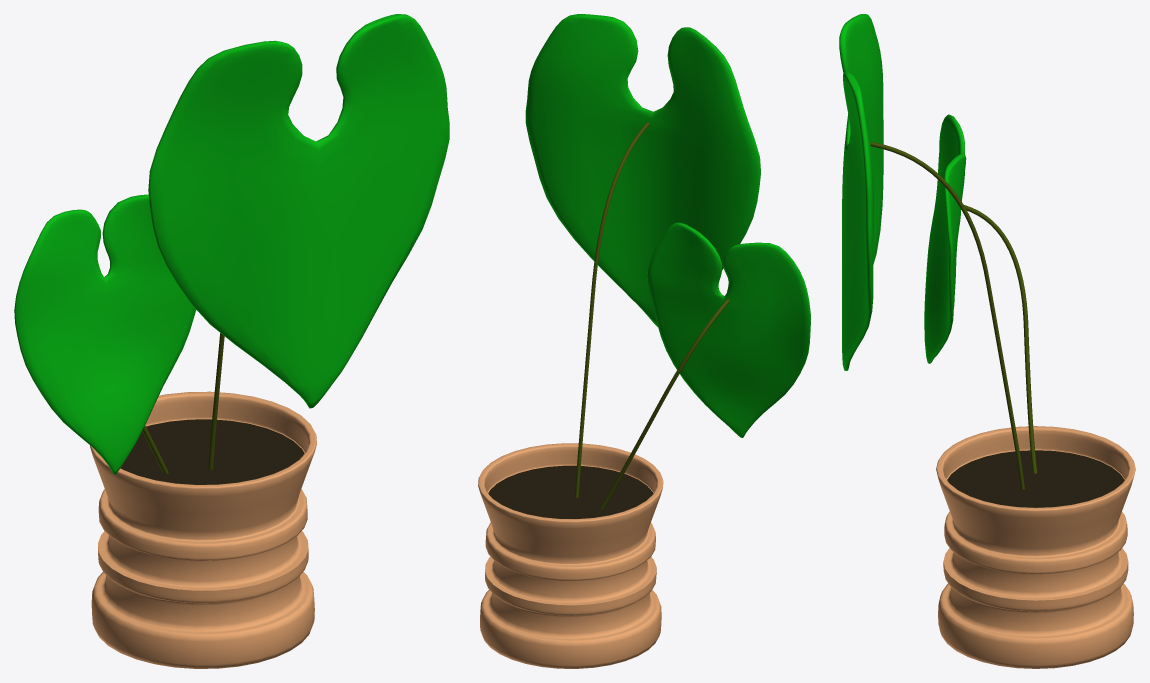
File: Anthurium Regale w_o texture.fbx
3 renders of one model, left to right at view 1: azimuth 30°, elevation 25°; view 2: azimuth 150°, elevation 25°; view 3: azimuth 270°, elevation 25°, orthographic. The views are drawn at different scales.
Visible parts, largest first — view 1: Plane, Circle, Plane.001, Circle.001, NurbsPath.001; view 2: Plane, Circle, Plane.001, Circle.001, NurbsPath.001; view 3: Circle, Plane, Circle.001, Plane.001, NurbsPath.001.
Part boxes in pixels (x1,y1,x2,y2): Plane: (148,14,449,408); Circle: (90,391,316,668); Plane.001: (14,194,195,474); Circle.001: (120,419,304,484); NurbsPath.001: (142,333,224,473); Plane: (525,14,760,326); Circle: (478,443,663,668); Plane.001: (647,222,810,437); Circle.001: (488,465,653,518); NurbsPath.001: (575,122,729,509); Circle: (936,426,1135,668); Plane: (839,14,883,370); Circle.001: (947,450,1124,507); Plane.001: (924,114,966,363); NurbsPath.001: (870,141,1037,489).
Bounding box in the file's own units: 39.68 × 64.79 × 29.65.
